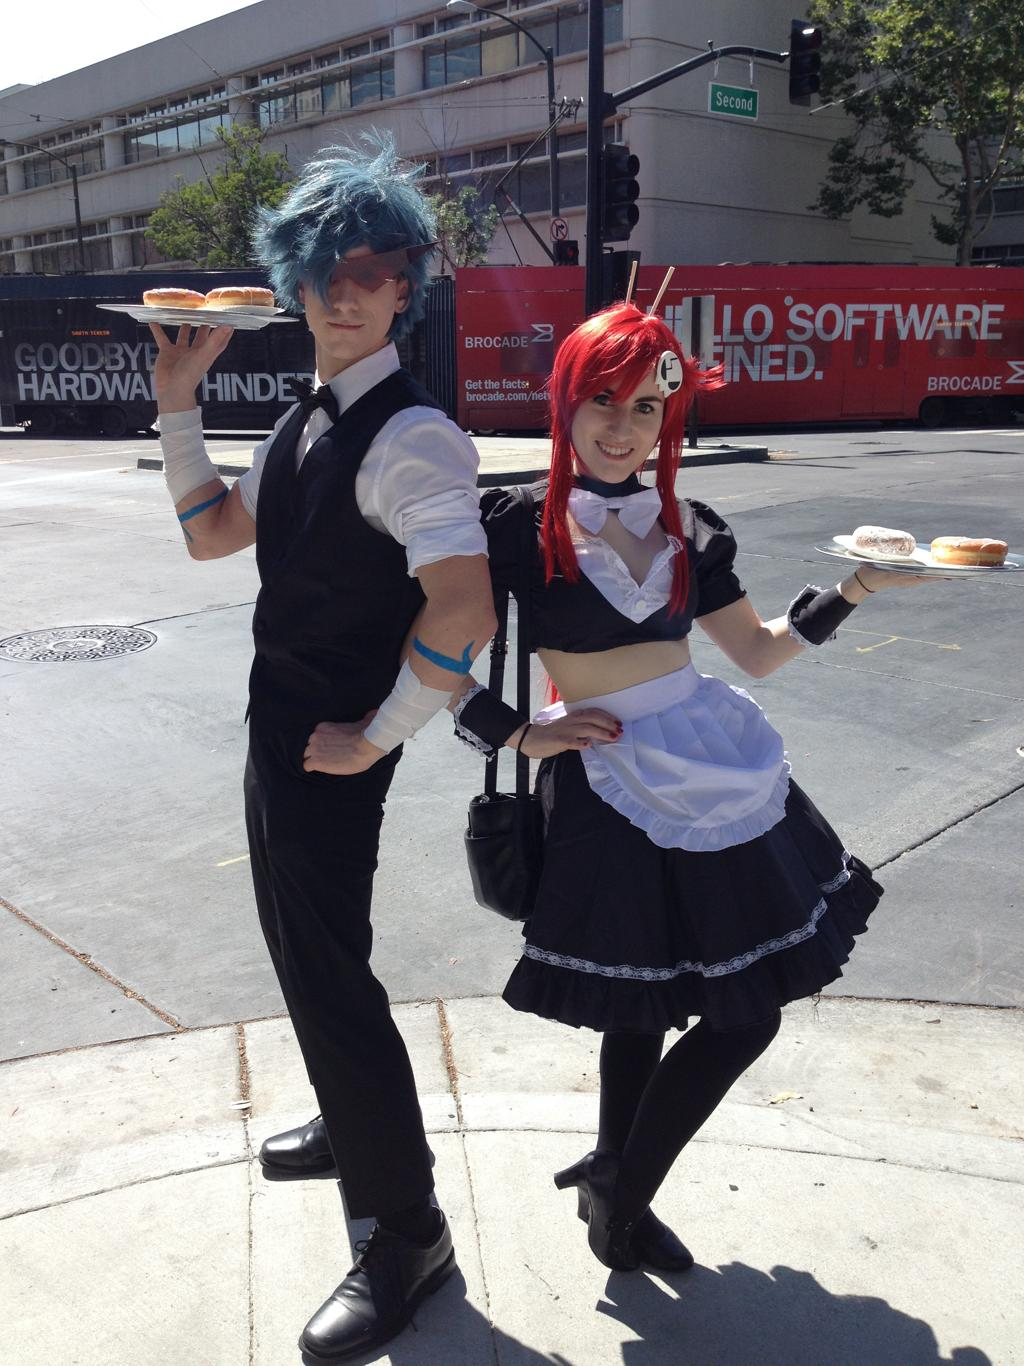face: (571, 344, 667, 488), (304, 229, 403, 354)
